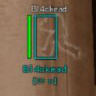hacks_1: (22, 4, 69, 86)
